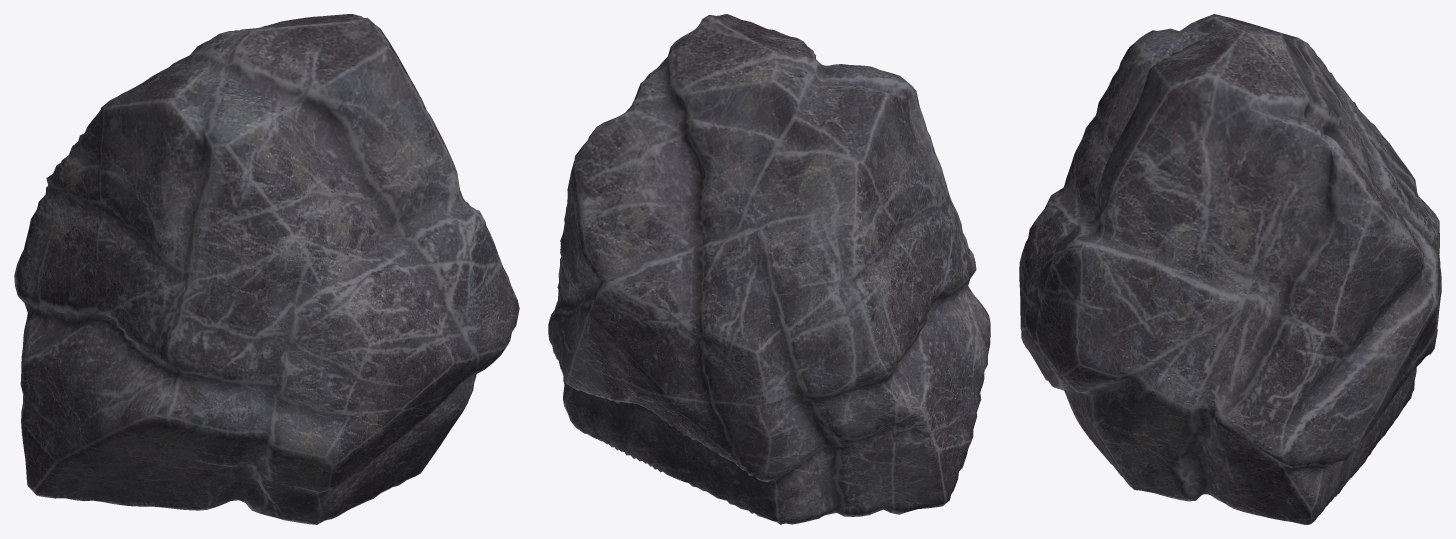
3 views of the same model, side by side, from view 1: azimuth 30°, elevation 25°; view 2: azimuth 150°, elevation 25°; view 3: azimuth 270°, elevation 25° (orthographic). The views are drawn at different scales.
Visible parts, largest first — view 1: Rock; view 2: Rock; view 3: Rock.
Part boxes in pixels (bbox=[...]): Rock: bbox=[14, 14, 519, 524]; Rock: bbox=[548, 14, 990, 524]; Rock: bbox=[1019, 14, 1441, 524].
Bounding box in the file's own units: 115 × 110 × 101.
Materials: 1 (1 with a texture image).
